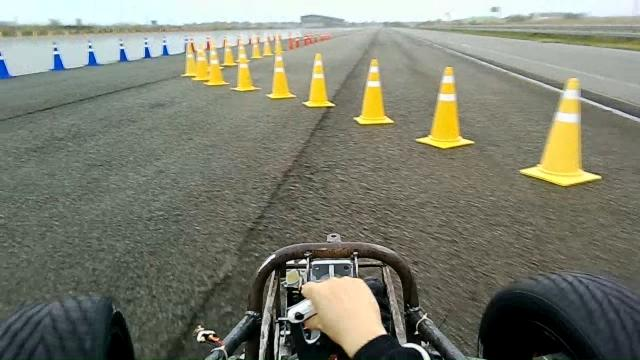blue cone: (50, 42, 66, 70), (86, 41, 100, 65), (140, 37, 154, 60), (159, 36, 172, 57), (118, 38, 128, 62)
yellow cone: (519, 76, 602, 186), (415, 65, 475, 149), (353, 57, 394, 125), (302, 52, 336, 108), (231, 45, 262, 93), (266, 54, 296, 99), (203, 47, 229, 86), (192, 46, 209, 81), (181, 42, 197, 77)
